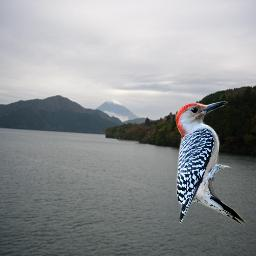Woodpecker: (169, 96, 252, 234)
